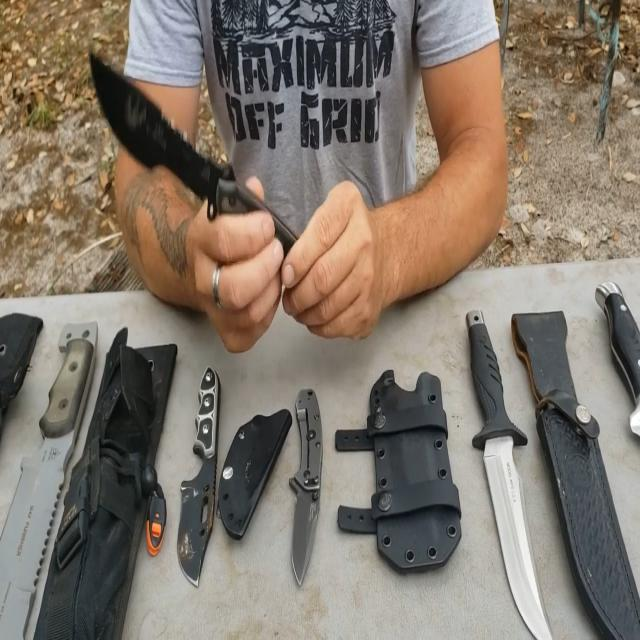knife: (85, 34, 329, 330), (444, 289, 576, 618), (0, 299, 106, 629), (177, 359, 240, 563), (291, 378, 323, 588)
